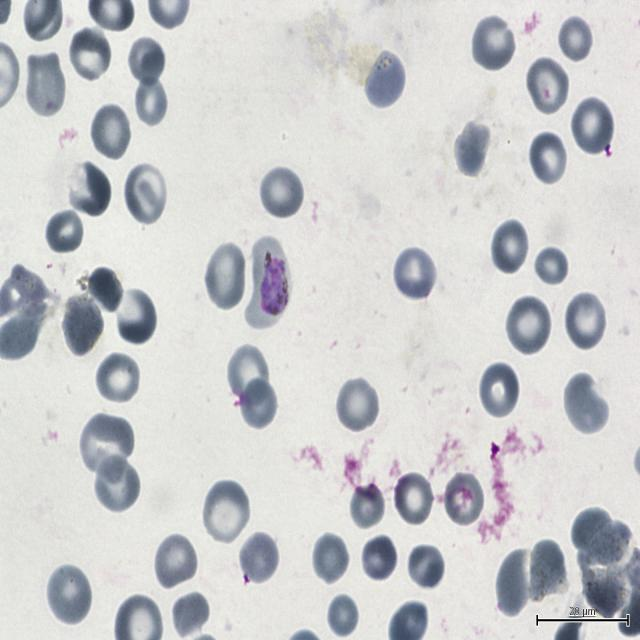red blood cell: (80, 412, 134, 482), (571, 507, 632, 563), (202, 478, 250, 547), (578, 560, 628, 622), (203, 242, 247, 312), (562, 372, 610, 436), (123, 161, 169, 227), (494, 545, 534, 620), (505, 294, 552, 357), (46, 562, 92, 626), (470, 12, 517, 74), (524, 55, 570, 118), (226, 344, 272, 407), (94, 454, 141, 515), (570, 95, 616, 157), (153, 532, 200, 592), (60, 294, 104, 358), (24, 50, 66, 117), (564, 290, 608, 353), (335, 375, 381, 434), (392, 245, 438, 303), (442, 469, 486, 529), (478, 360, 521, 421), (68, 25, 112, 84), (526, 538, 567, 601), (364, 50, 407, 110), (259, 164, 304, 221), (89, 102, 132, 161), (392, 471, 435, 527), (453, 120, 493, 179), (238, 530, 280, 586), (528, 130, 569, 187), (490, 218, 530, 276), (95, 353, 140, 403), (69, 163, 110, 217), (310, 531, 350, 585), (126, 34, 166, 88), (118, 289, 157, 344), (238, 376, 277, 431), (44, 207, 85, 256), (171, 590, 211, 640), (360, 533, 399, 584), (349, 483, 390, 531), (406, 540, 444, 591), (556, 14, 594, 64), (324, 589, 362, 639), (533, 243, 570, 290), (134, 79, 171, 126), (88, 266, 122, 312)
trophozoite: (244, 235, 292, 329)
